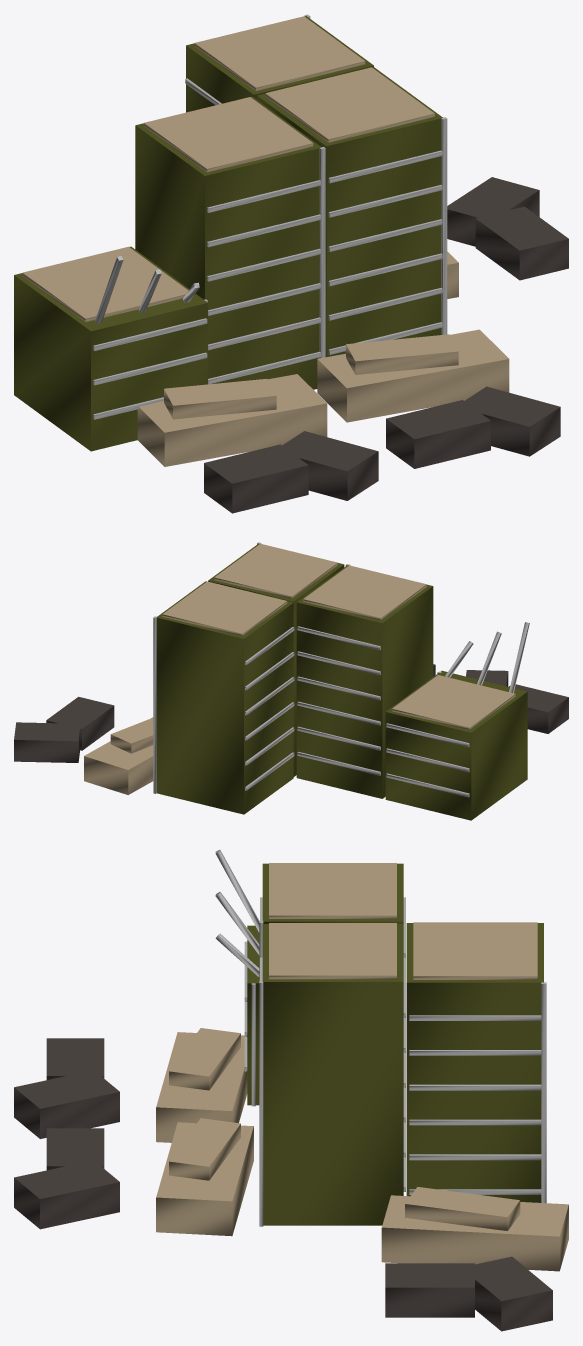
Rendered from SM_HescoRemateEspejo_v1_Geotextil_e1_Danado_LOD0.fbx.
3 renders of one model, top to bottom at view 1: azimuth 30°, elevation 25°; view 2: azimuth 150°, elevation 25°; view 3: azimuth 270°, elevation 25°, orthographic. The views are drawn at different scales.
Visible parts, largest first — view 1: SM_hesco_piezas_v25_LOD0; view 2: SM_hesco_piezas_v25_LOD0; view 3: SM_hesco_piezas_v25_LOD0.
Boxes of the visible parts, bbox=[...] form: SM_hesco_piezas_v25_LOD0: bbox=[14, 14, 568, 513]; SM_hesco_piezas_v25_LOD0: bbox=[14, 542, 568, 820]; SM_hesco_piezas_v25_LOD0: bbox=[14, 849, 568, 1331].
Size of the model in its own units: 5.25 by 2.13 by 4.33.
